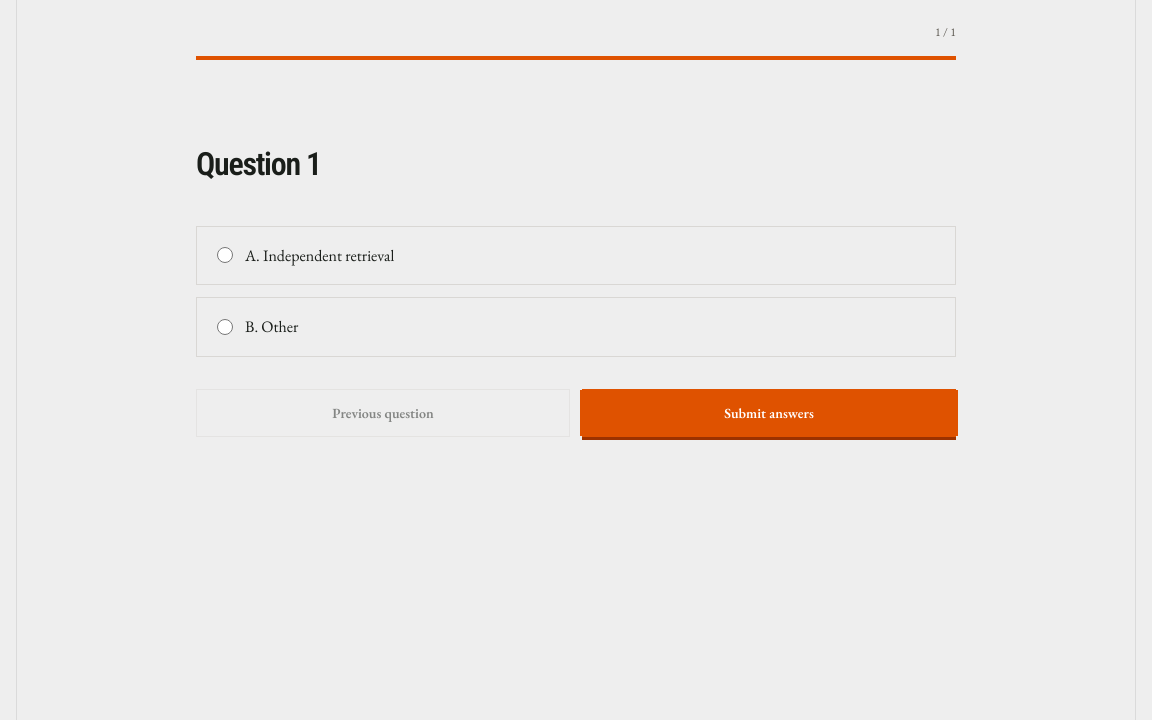
Test: shows the submitted correct answer beside its feedback and model answer
This screenshot has width=1152, height=720.
Expected: the heading "Question 1" is shown, [196,145,321,183]
Click the radio button labelled "A. Independent retrieval" at coordinates (225, 255), box [217,247,233,263]
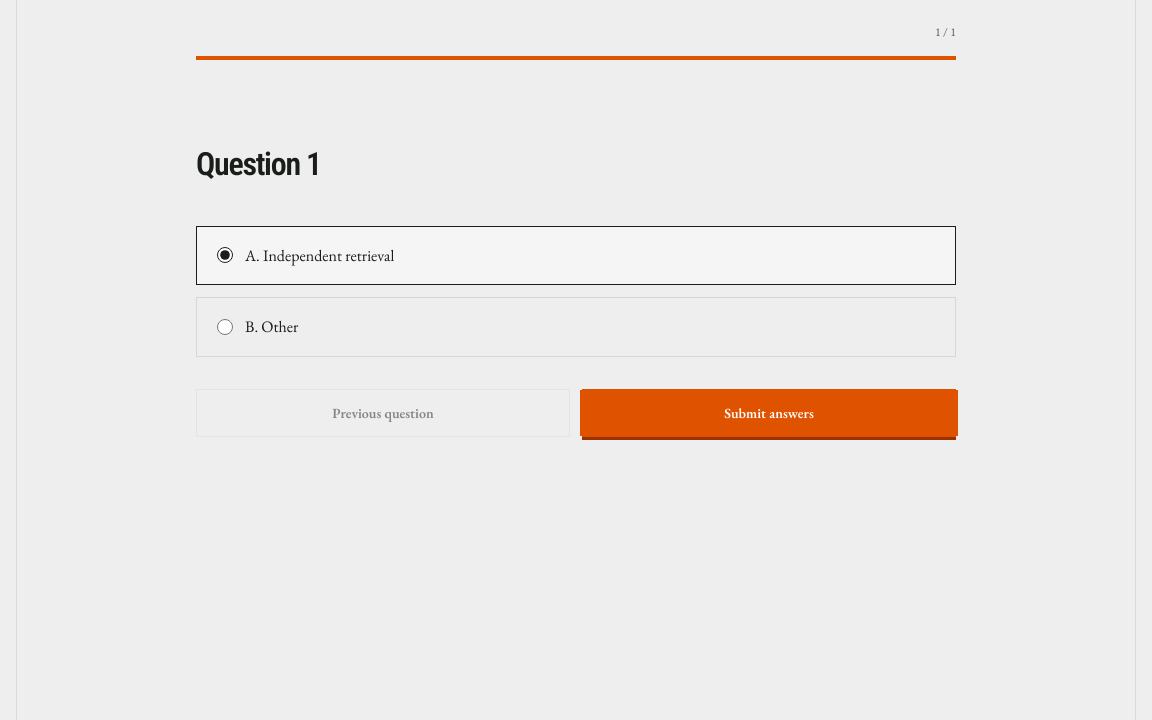
# Click the text, exercising the implicit native label association after wrapping it.
Click the button "Submit answers" at coordinates (769, 413), box [582,389,956,437]
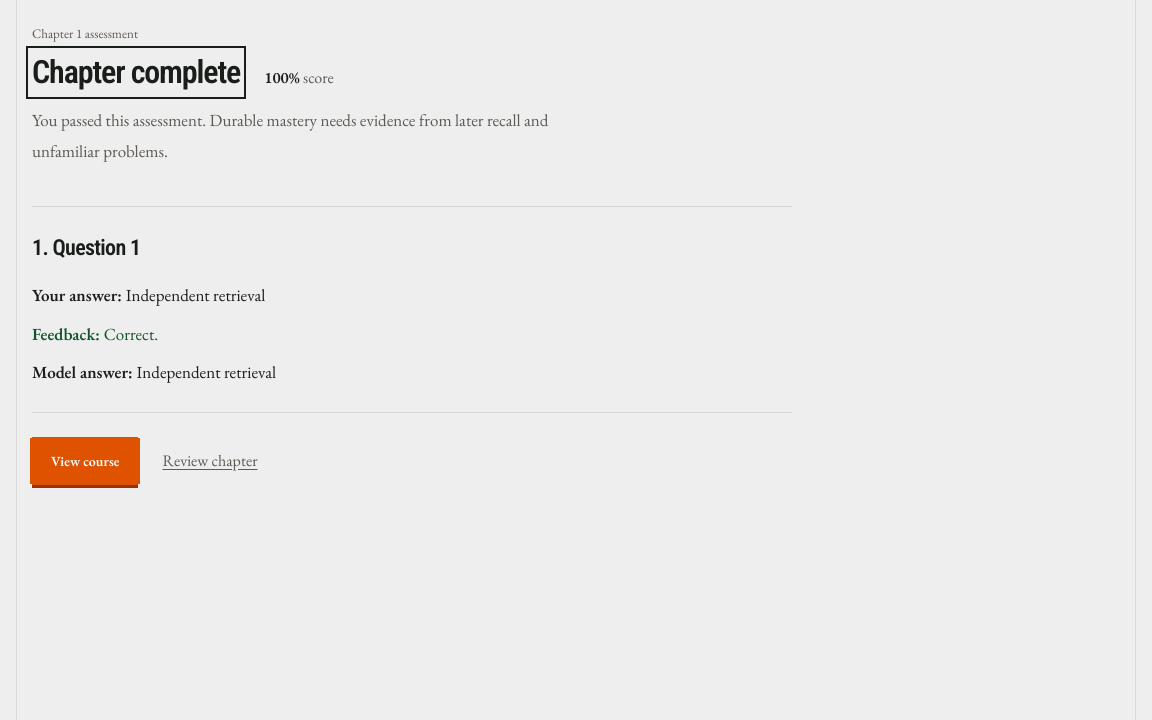
Now the heading "Chapter complete" is shown, box [32,52,240,93]
